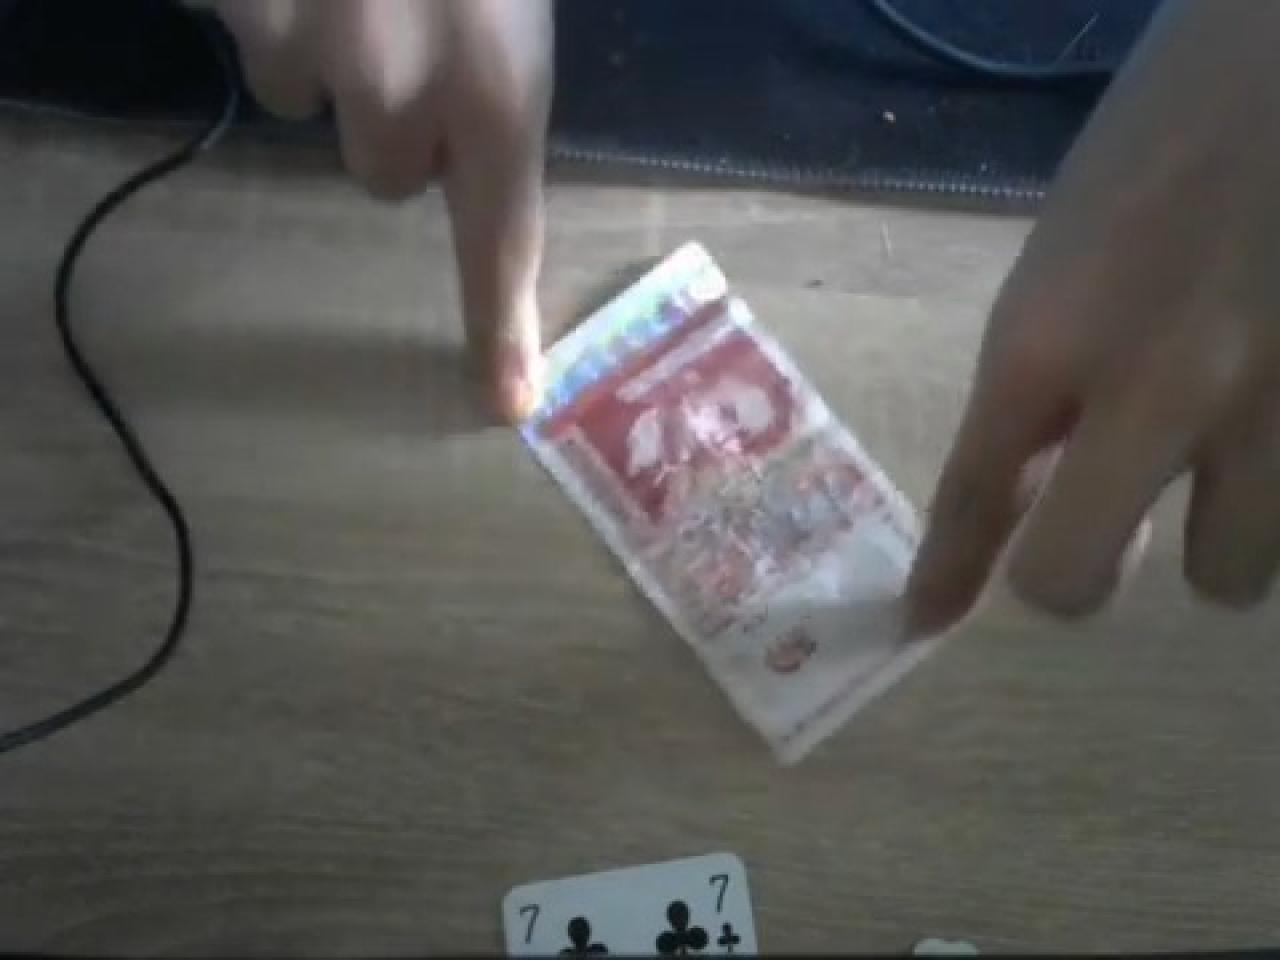5leva: (515, 243, 944, 768)
